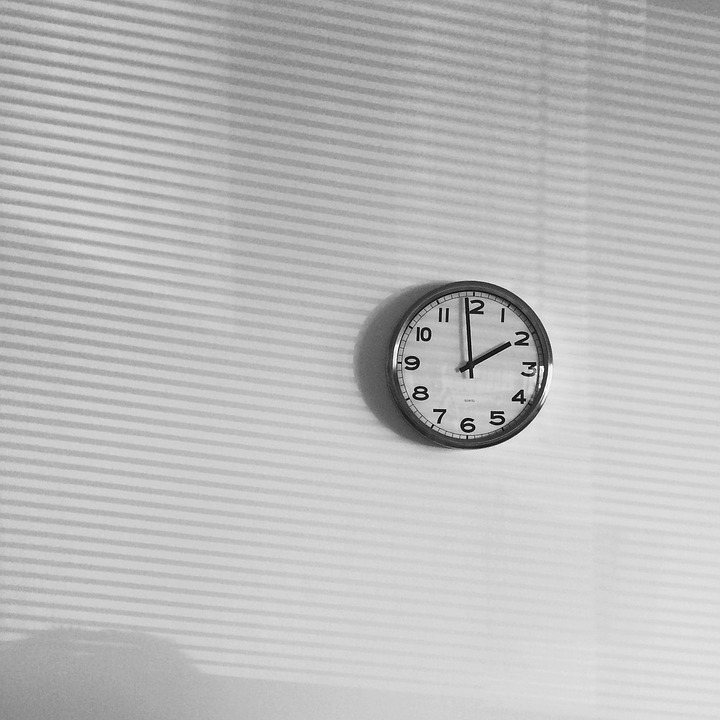clock: (397, 289, 545, 446)
